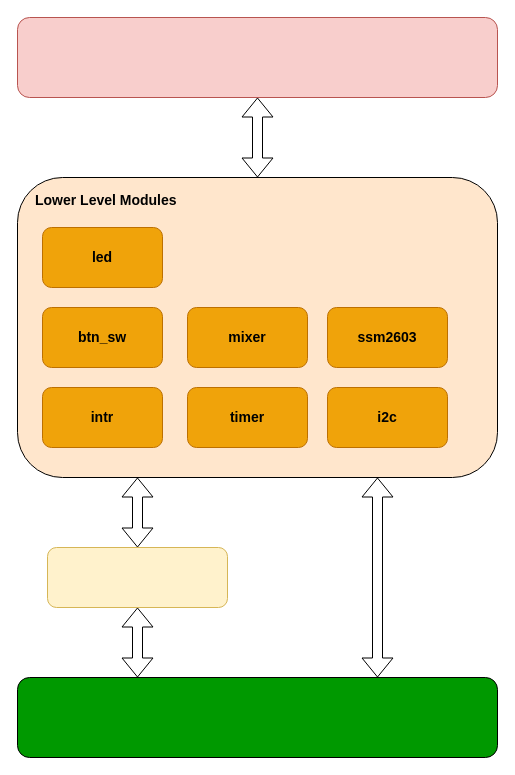
The diagram is 515 pixels wide and 775 high, and some of its shapes have lost their labels. Each missing label, with the centre of its shape:
AMDs Drivers: pixel 137 577
app: pixel 257 57
Hardware (Zynq PS, AXI IP Cores ): pixel 257 717
